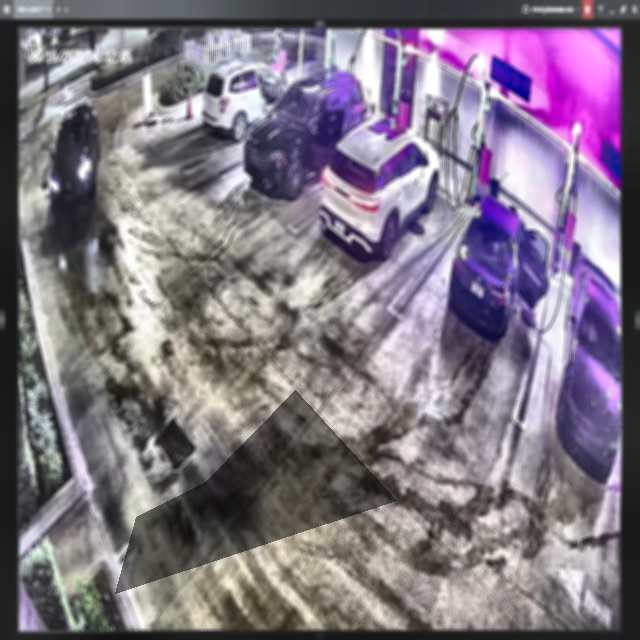Car: (322, 114, 438, 263), (450, 185, 549, 347), (243, 68, 366, 190)
